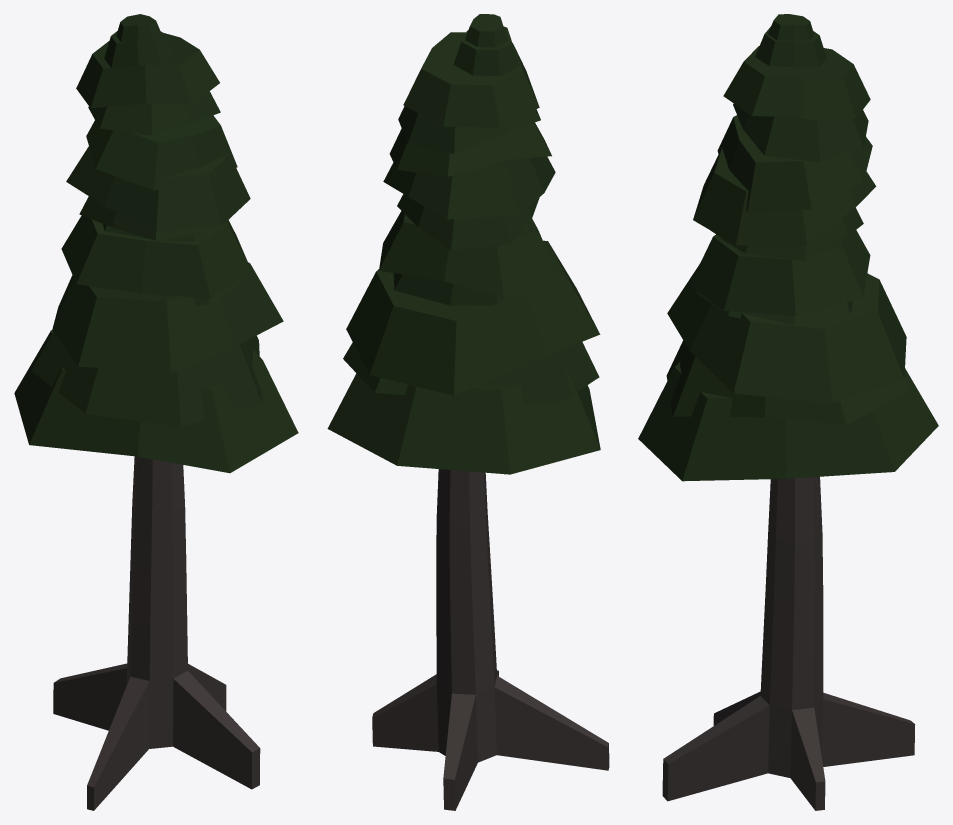
The model's file is tree.glb.
3 renders of one model, left to right at view 1: azimuth 30°, elevation 25°; view 2: azimuth 150°, elevation 25°; view 3: azimuth 270°, elevation 25°, orthographic. The views are drawn at different scales.
Visible parts, largest first — view 1: Cylinder, Cylinder.002, Cylinder.001, Cylinder.012, Cylinder.003, Cylinder.005, Cylinder.010, Cylinder.007, Cylinder.006, Cylinder.008, Cylinder.004, Cylinder.009; view 2: Cylinder, Cylinder.002, Cylinder.001, Cylinder.003, Cylinder.007, Cylinder.005, Cylinder.012, Cylinder.010, Cylinder.004, Cylinder.006, Cylinder.011, Cylinder.008 (+1 smaller); view 3: Cylinder, Cylinder.001, Cylinder.002, Cylinder.003, Cylinder.010, Cylinder.007, Cylinder.005, Cylinder.012, Cylinder.006, Cylinder.004, Cylinder.008, Cylinder.011 (+1 smaller).
Boxes of the visible parts, x1=… form: Cylinder: x1=53, y1=456, x2=260, y2=810; Cylinder.002: x1=52, y1=262, x2=283, y2=372; Cylinder.001: x1=14, y1=330, x2=298, y2=473; Cylinder.012: x1=31, y1=332, x2=261, y2=426; Cylinder.003: x1=61, y1=215, x2=251, y2=299; Cylinder.005: x1=66, y1=146, x2=250, y2=231; Cylinder.010: x1=86, y1=115, x2=237, y2=190; Cylinder.007: x1=76, y1=33, x2=219, y2=108; Cylinder.006: x1=88, y1=91, x2=220, y2=135; Cylinder.008: x1=104, y1=31, x2=173, y2=67; Cylinder.004: x1=79, y1=196, x2=217, y2=240; Cylinder.009: x1=116, y1=14, x2=161, y2=42; Cylinder: x1=372, y1=469, x2=609, y2=810; Cylinder.002: x1=346, y1=240, x2=600, y2=395; Cylinder.001: x1=327, y1=370, x2=600, y2=474; Cylinder.003: x1=379, y1=211, x2=559, y2=297; Cylinder.007: x1=403, y1=32, x2=539, y2=127; Cylinder.005: x1=383, y1=156, x2=555, y2=219; Cylinder.012: x1=343, y1=342, x2=599, y2=405; Cylinder.010: x1=389, y1=122, x2=551, y2=176; Cylinder.004: x1=397, y1=194, x2=539, y2=250; Cylinder.006: x1=398, y1=106, x2=540, y2=153; Cylinder.011: x1=393, y1=273, x2=522, y2=305; Cylinder.008: x1=453, y1=26, x2=519, y2=75; Cylinder: x1=662, y1=476, x2=915, y2=810; Cylinder.001: x1=638, y1=362, x2=938, y2=481; Cylinder.002: x1=667, y1=264, x2=906, y2=403; Cylinder.003: x1=690, y1=230, x2=870, y2=315; Cylinder.010: x1=717, y1=115, x2=872, y2=211; Cylinder.007: x1=723, y1=46, x2=870, y2=118; Cylinder.005: x1=693, y1=148, x2=876, y2=245; Cylinder.012: x1=666, y1=340, x2=911, y2=425; Cylinder.006: x1=733, y1=103, x2=868, y2=162; Cylinder.004: x1=712, y1=207, x2=863, y2=261; Cylinder.008: x1=755, y1=26, x2=826, y2=67; Cylinder.011: x1=696, y1=290, x2=852, y2=325.
Bounding box in the file's own units: 6.16 × 19.11 × 6.84.
